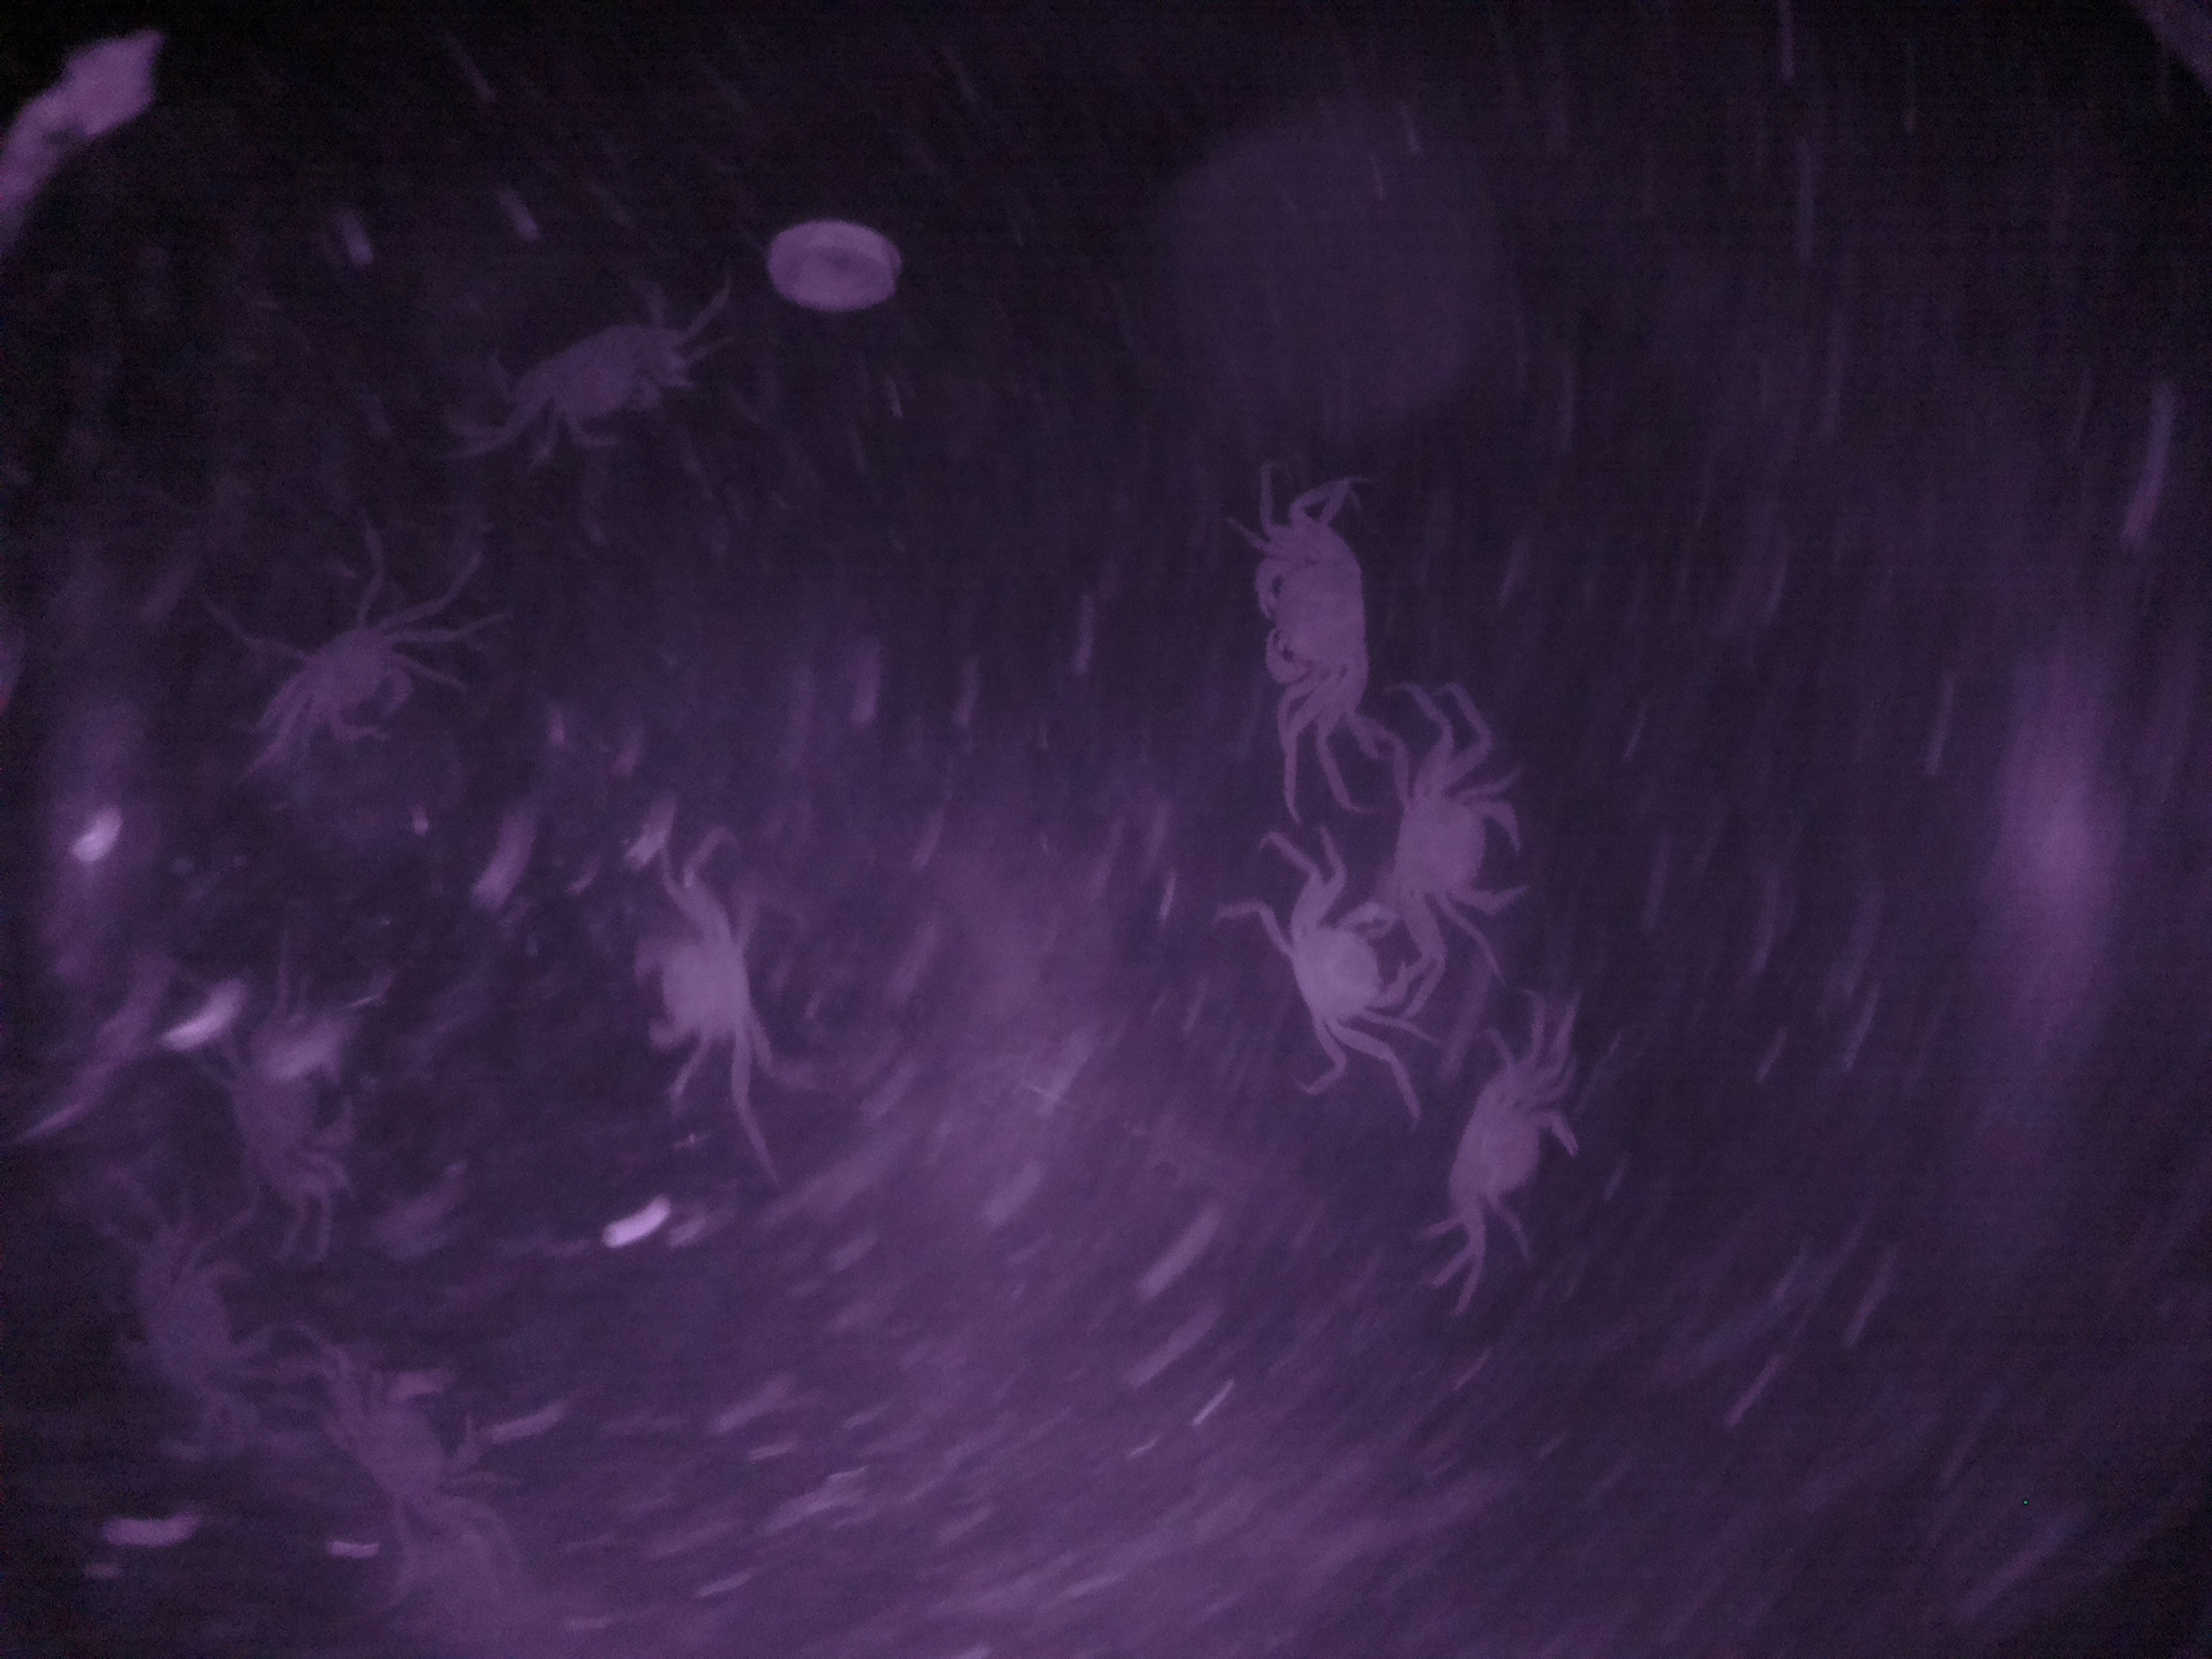Crab: (1379, 746, 1566, 957), (1233, 507, 1379, 739), (496, 293, 683, 469), (1259, 885, 1420, 1061)
